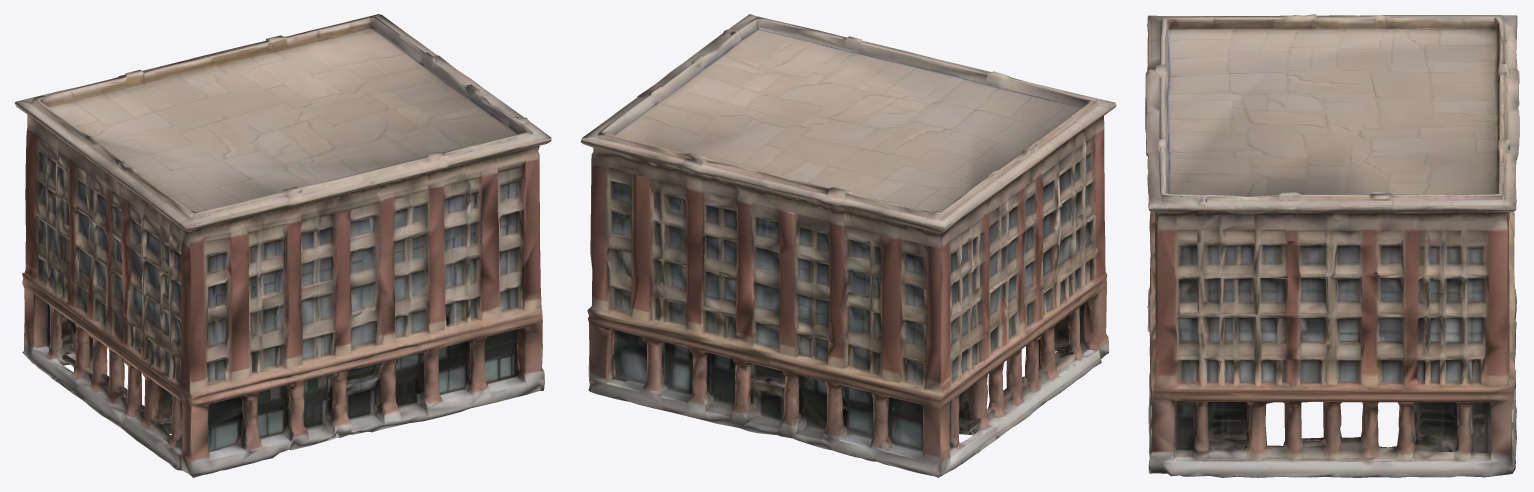
The model's file is theatre-us.glb.
3 views of the same model, side by side, from view 1: azimuth 30°, elevation 25°; view 2: azimuth 150°, elevation 25°; view 3: azimuth 270°, elevation 25° (orthographic). The views are drawn at different scales.
Parts seen in each view (by area): view 1: TheatreUS; view 2: TheatreUS; view 3: TheatreUS.
Boxes of the visible parts, x1,y1,x2,y2 form: TheatreUS: (14,14,551,477); TheatreUS: (580,14,1116,477); TheatreUS: (1145,14,1519,477).
Size of the model in its own units: 45 by 30.4 by 36.93.
1 material, 1 textured.
